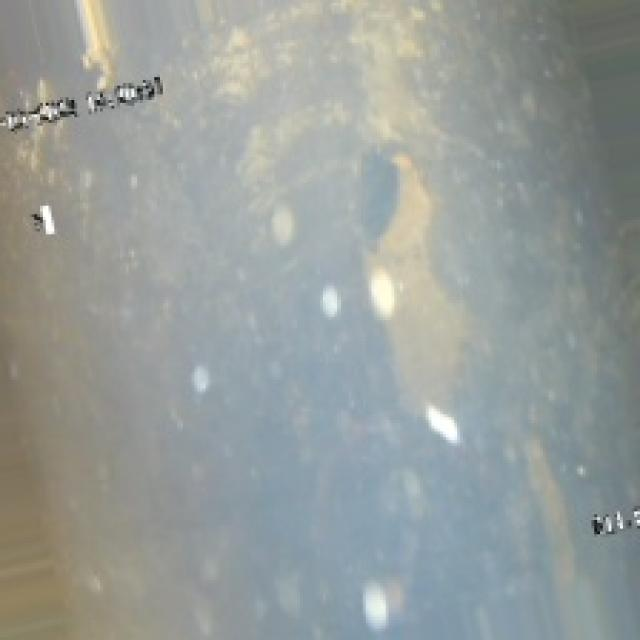pipe_surface_damage: (334, 134, 486, 389)
